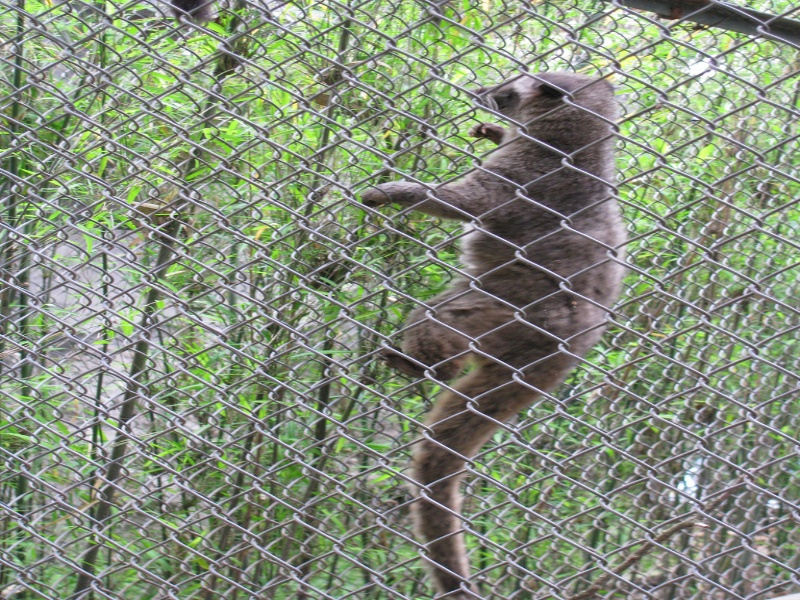minkish: (365, 73, 630, 593)
